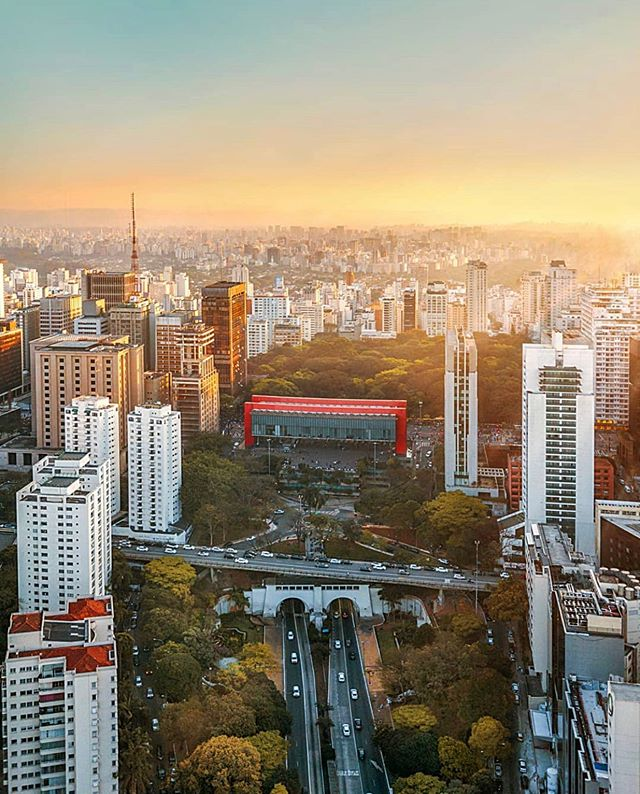bridge: (115, 524, 505, 611)
building: (1, 589, 128, 794), (522, 577, 640, 794), (1, 445, 107, 618), (518, 340, 593, 575), (29, 333, 156, 445), (237, 391, 410, 462), (136, 321, 223, 458), (440, 327, 487, 497), (122, 406, 181, 538), (62, 400, 126, 515), (583, 304, 640, 415), (198, 279, 245, 396), (539, 260, 581, 333), (460, 259, 502, 332)
sky: (1, 1, 640, 217)
street: (322, 605, 390, 793), (270, 588, 323, 794)
vegetation: (127, 571, 278, 794), (394, 615, 506, 794)
